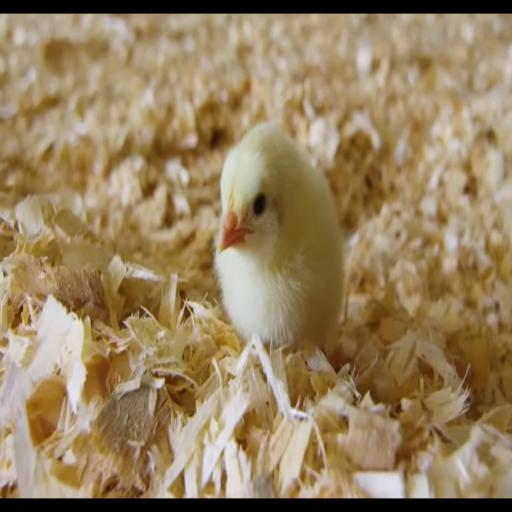chick: (215, 123, 343, 347)
